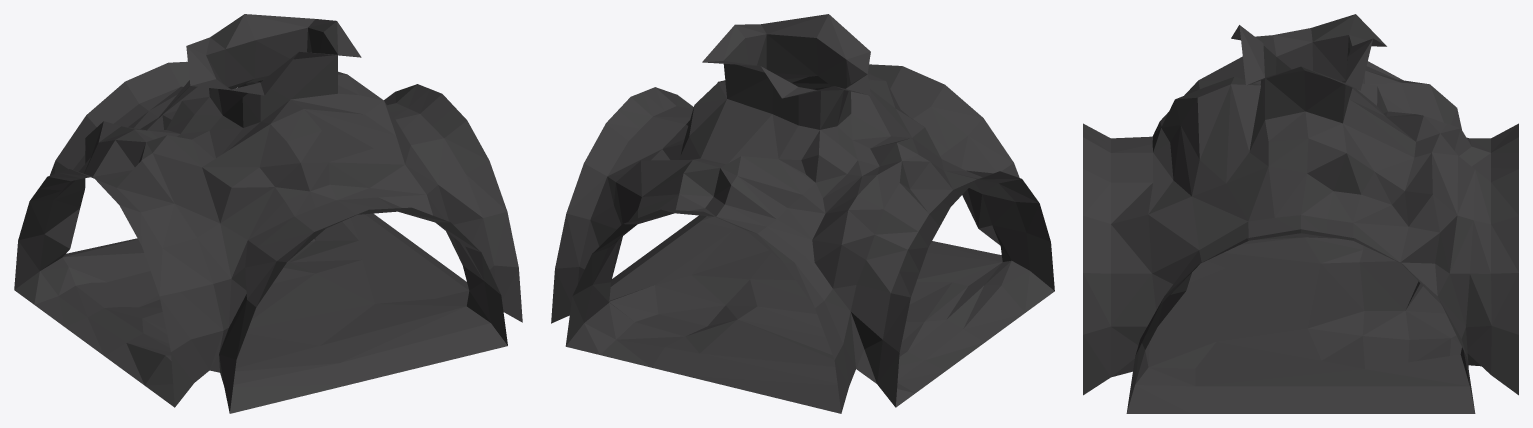
File: Cave_5B_Intersection_LOD_1.fbx
3 views of the same model, side by side, from view 1: azimuth 30°, elevation 25°; view 2: azimuth 150°, elevation 25°; view 3: azimuth 270°, elevation 25° (orthographic). The views are drawn at different scales.
Visible parts, largest first — view 1: polySurface1220; view 2: polySurface1220; view 3: polySurface1220.
Boxes of the visible parts, x1,y1,x2,y2 form: polySurface1220: (14,14,522,413); polySurface1220: (551,14,1054,413); polySurface1220: (1083,14,1518,413).
Bounding box in the file's own units: 10.32 × 7.8 × 10.32.
